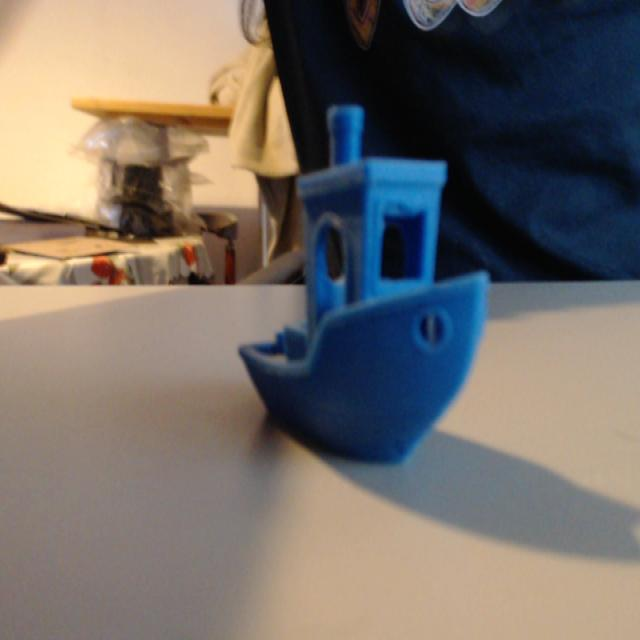benchy: (236, 100, 491, 467)
